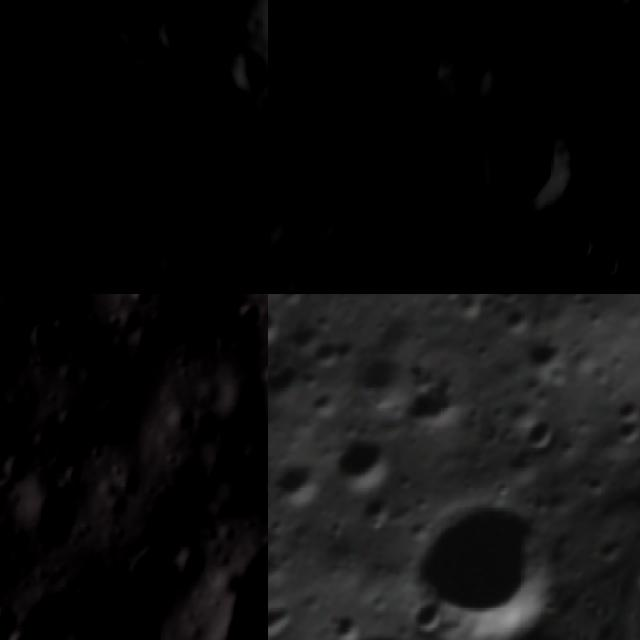crater: (376, 471, 596, 640), (72, 73, 205, 218), (136, 188, 268, 294), (488, 74, 578, 218), (401, 366, 483, 446), (340, 342, 419, 424), (132, 294, 241, 352), (120, 528, 190, 613), (327, 427, 400, 499), (0, 66, 61, 139), (152, 0, 214, 63), (312, 609, 434, 640), (299, 324, 359, 385), (268, 451, 323, 509), (509, 408, 564, 464), (214, 94, 268, 151), (284, 31, 338, 88), (596, 390, 640, 455), (0, 410, 21, 533), (8, 294, 57, 325), (268, 302, 291, 362), (0, 607, 19, 640), (2, 629, 47, 640)
